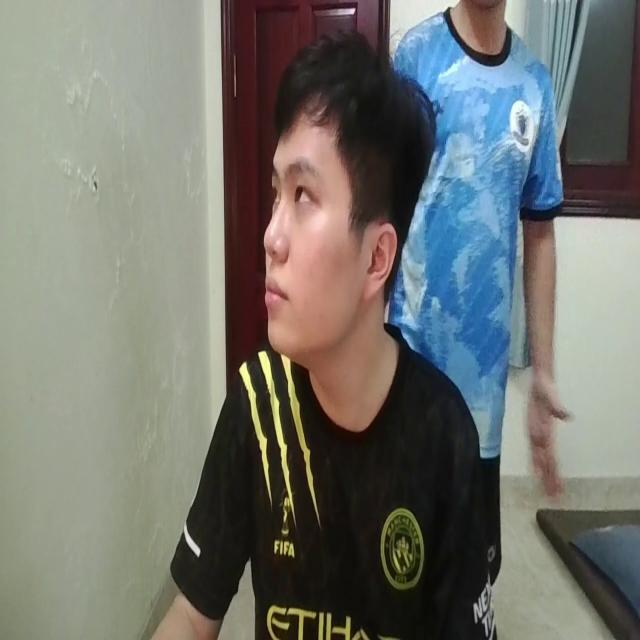student: (131, 34, 483, 640)
